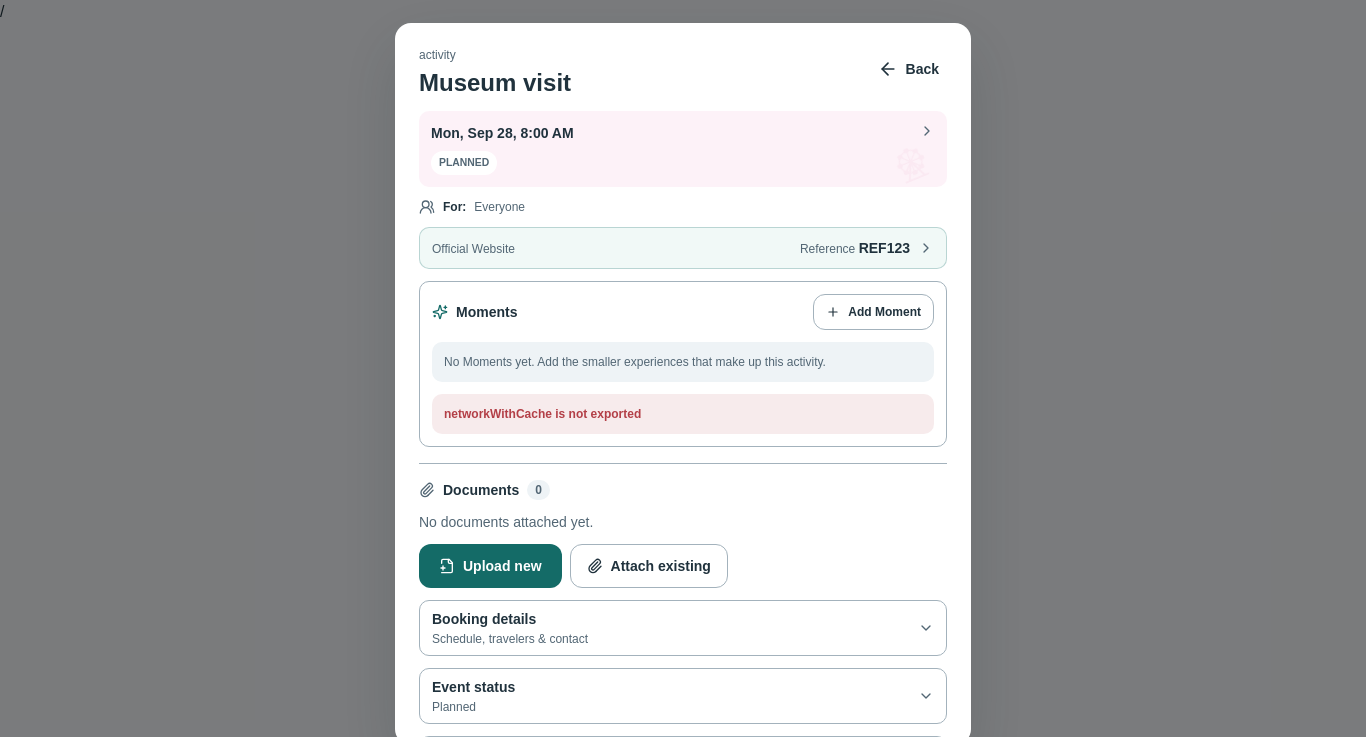
Scenario: flight event details › opens the full hotel booking from the existing date and status card
What coordinates should you click on to do the following:
click the link named "View booking details for Reserved place"
I would click on:
 (683, 149)
Its box is 419,111 -> 947,187.
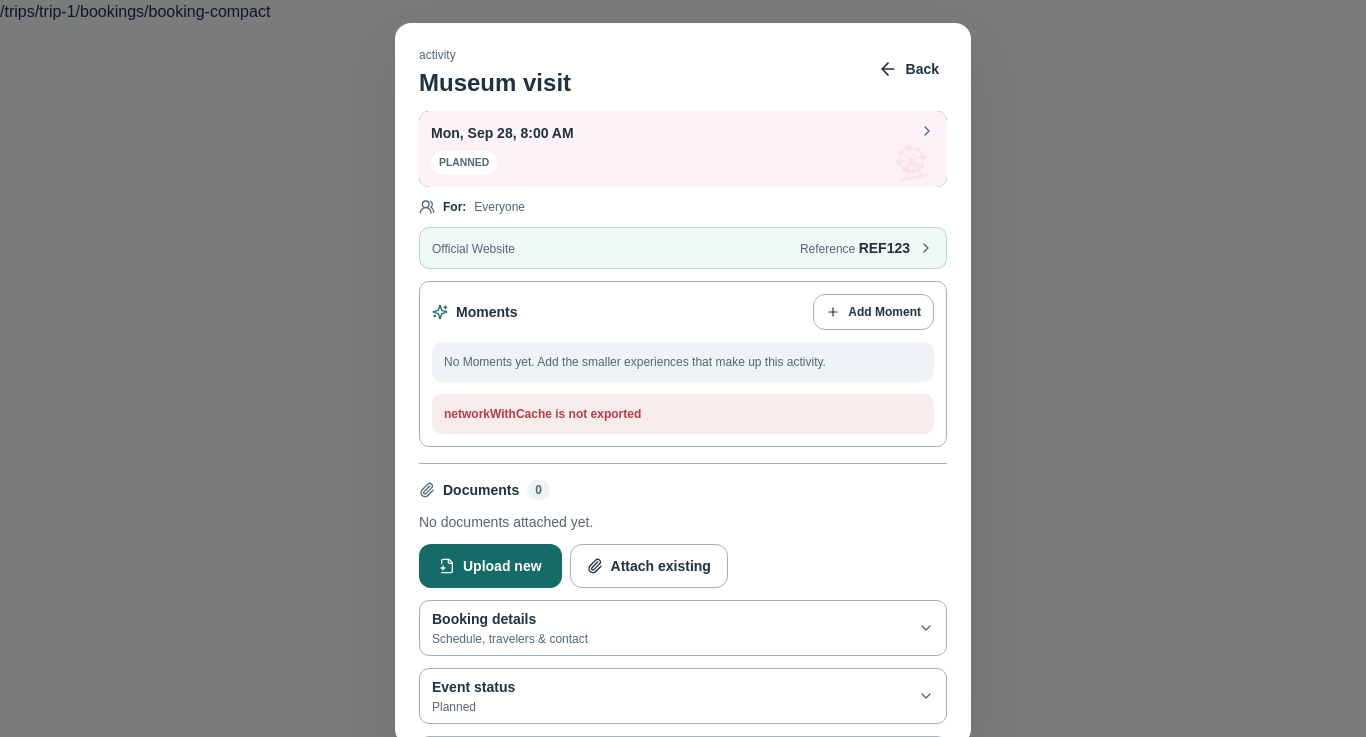
Result: the text with test id "location" reads "/trips/trip-1/bookings/booking-compact" at 0,3 -> 270,20
